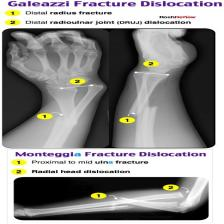fracture-dislocation: (5, 28, 213, 148), (17, 176, 212, 221)
